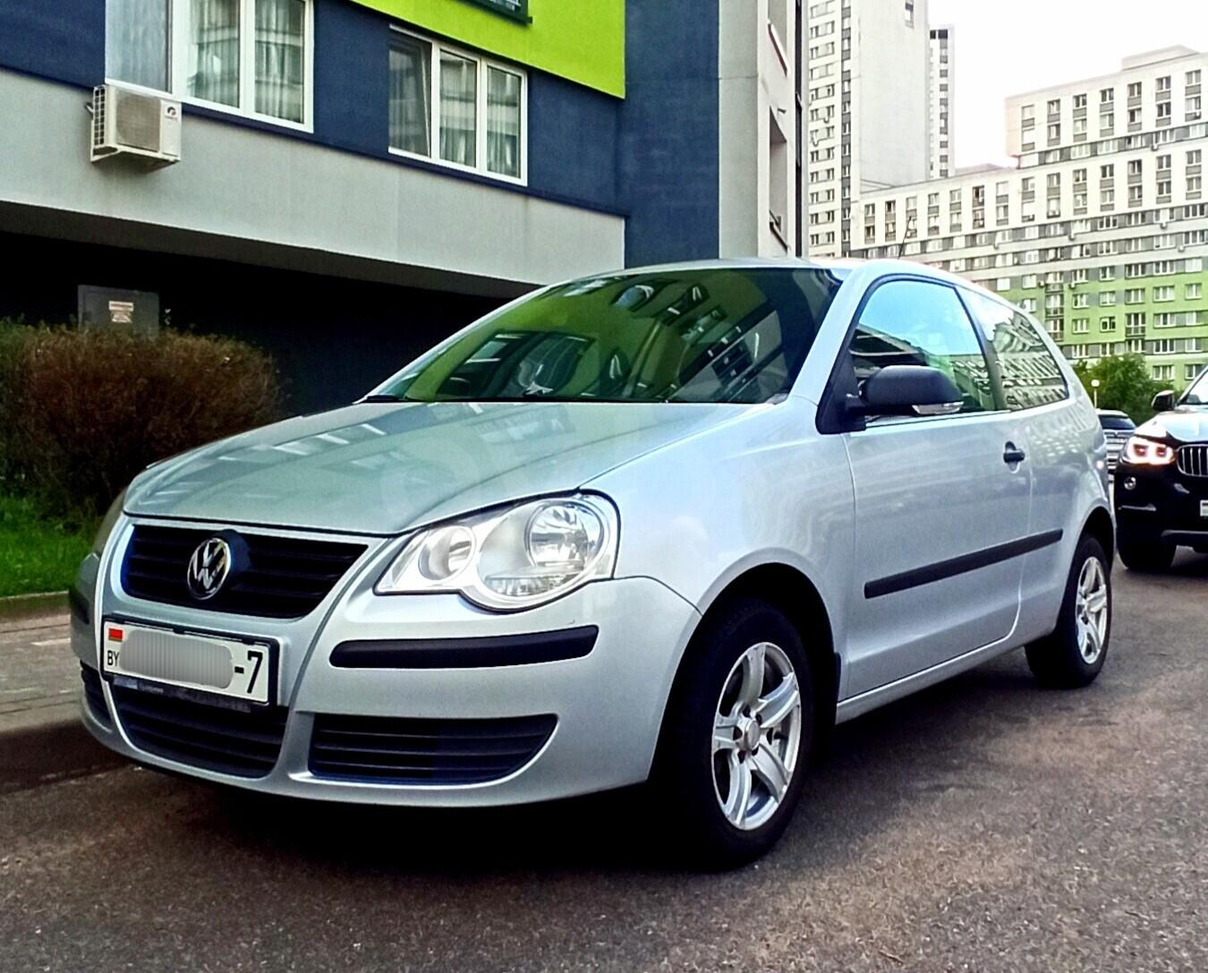Polo_2005-2009: (55, 244, 1140, 868)
